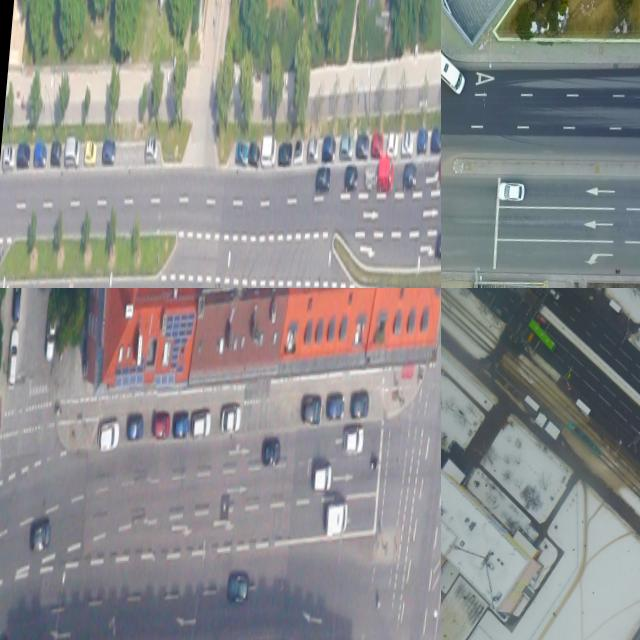UAI: (45, 296, 59, 361), (29, 515, 52, 554), (96, 418, 120, 454), (227, 571, 250, 603), (7, 328, 19, 388), (349, 387, 371, 419), (497, 179, 526, 203), (301, 393, 323, 424), (125, 409, 145, 441), (342, 427, 364, 456), (377, 158, 395, 193), (312, 463, 333, 492), (221, 404, 242, 433), (64, 134, 81, 168), (260, 133, 277, 167), (171, 409, 190, 439), (191, 410, 212, 437), (261, 437, 281, 465), (326, 391, 345, 419), (321, 131, 337, 164), (315, 163, 332, 194), (151, 410, 170, 437), (402, 160, 418, 190), (16, 139, 31, 169), (10, 288, 23, 322), (102, 137, 117, 165), (355, 132, 370, 160), (145, 134, 159, 163), (344, 164, 359, 191), (2, 143, 16, 171), (34, 140, 48, 168), (371, 130, 384, 159), (278, 141, 293, 166), (50, 140, 63, 168), (235, 140, 249, 166), (248, 138, 261, 166), (340, 134, 354, 160), (401, 128, 414, 156), (387, 130, 399, 159), (417, 127, 429, 156), (85, 138, 98, 164), (307, 136, 320, 162), (365, 165, 377, 191), (293, 137, 304, 163), (430, 126, 441, 152), (156, 0, 172, 16), (434, 230, 441, 259), (491, 305, 504, 318), (549, 288, 561, 300), (536, 314, 548, 325)
car: (526, 318, 559, 353)
harvester: (441, 44, 467, 94), (325, 498, 350, 537)
